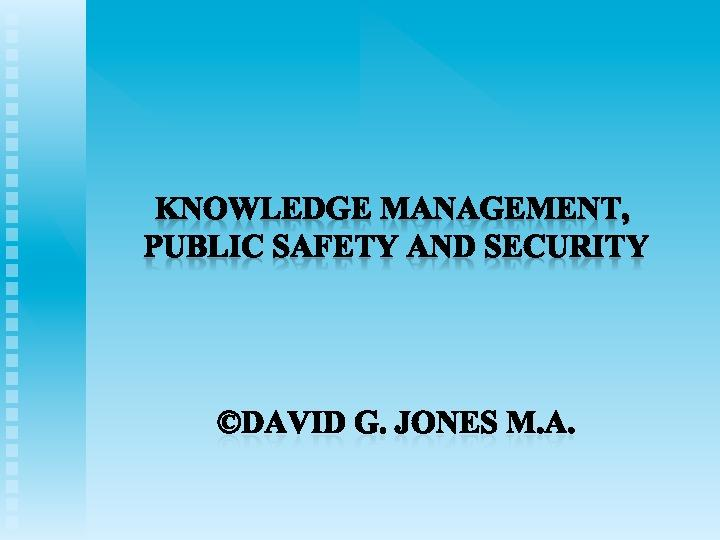title: (133, 176, 663, 288)
